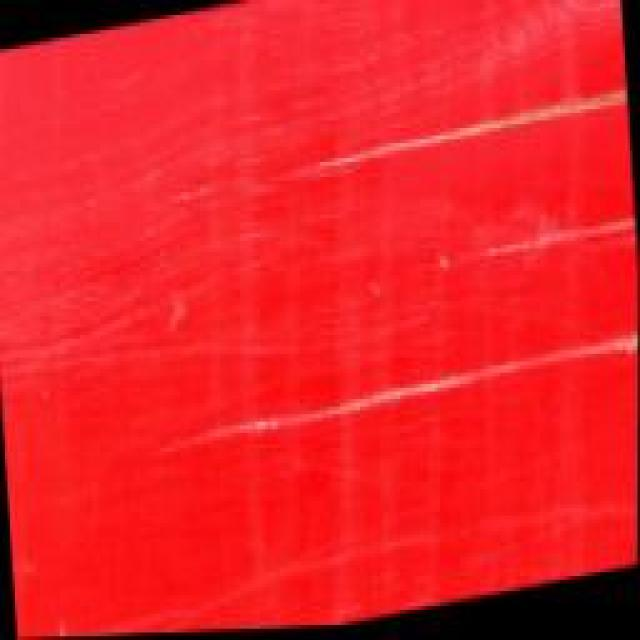Door: (0, 0, 640, 610)
